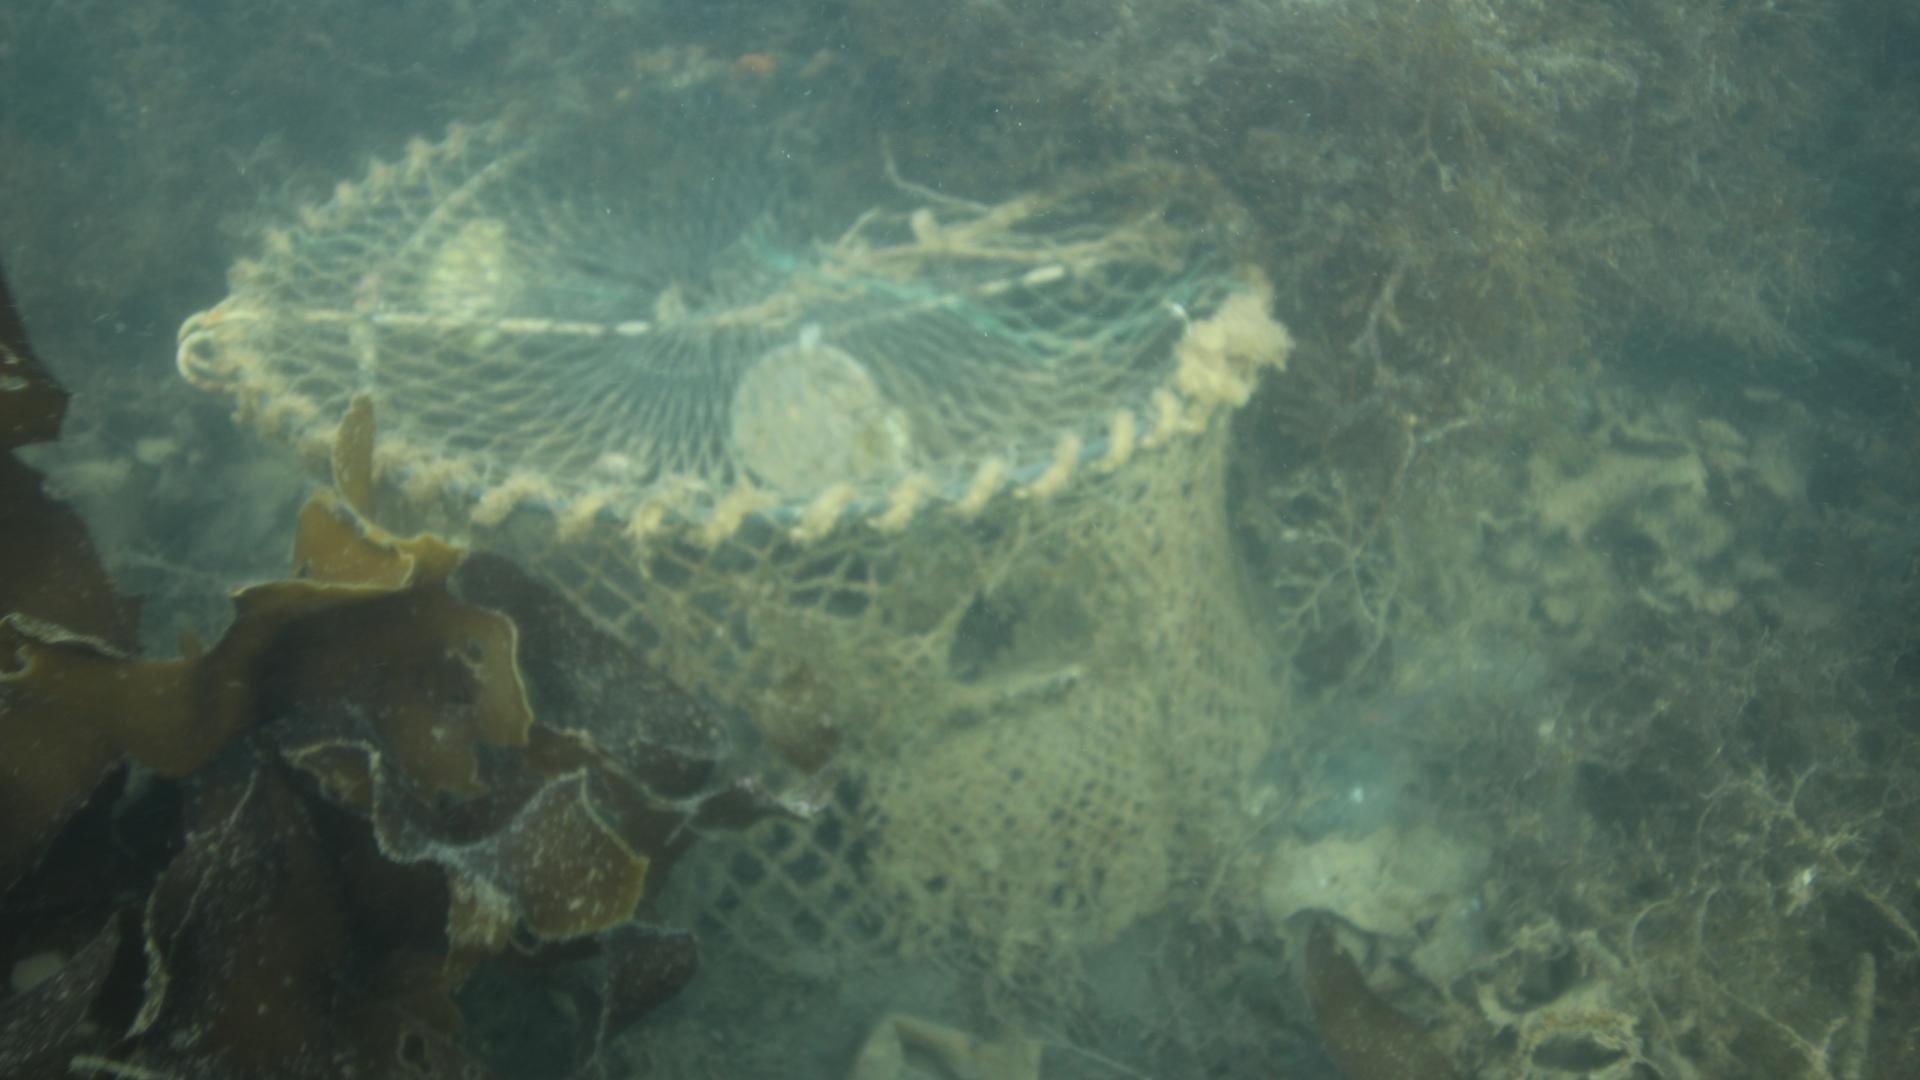circular fish trap: (174, 53, 1276, 985)
